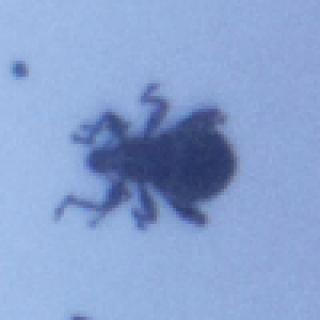bvw: (54, 78, 238, 233)
